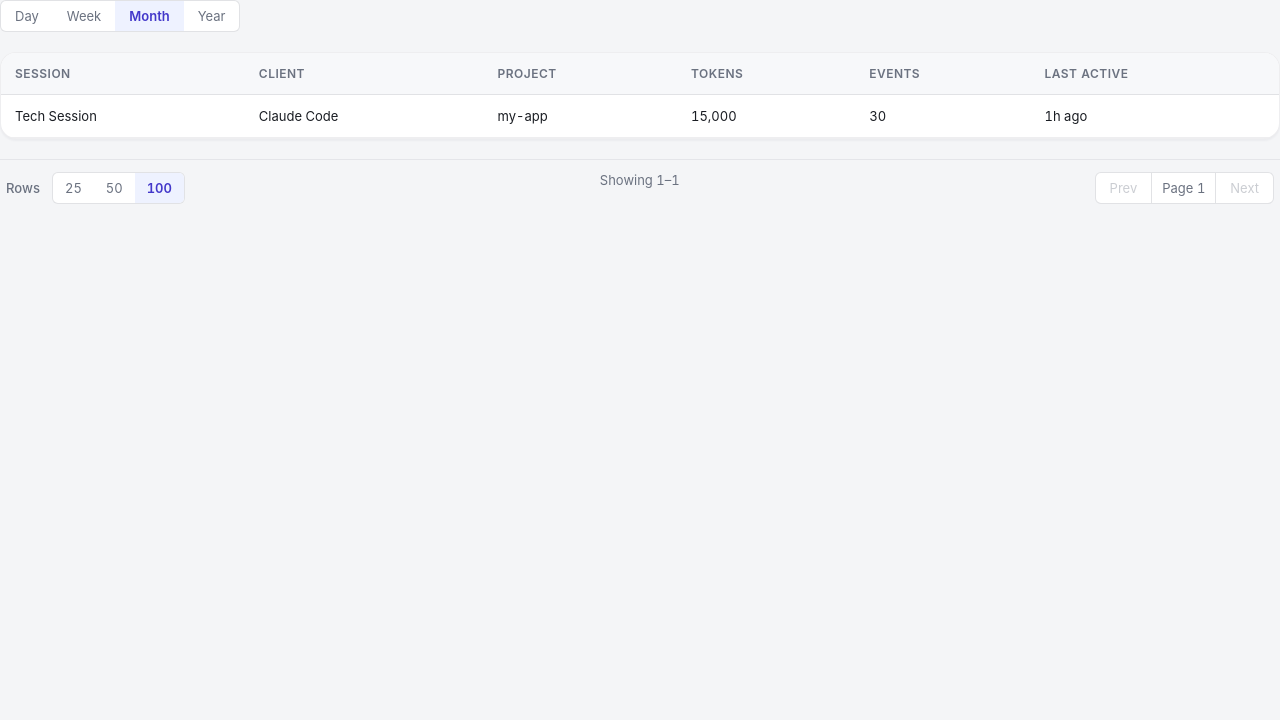
Test: SessionsPage › displays technical details in drawer
Click the text "Tech Session" at {"x": 123, "y": 116}, box top-left (1, 94), bottom-right (245, 138)
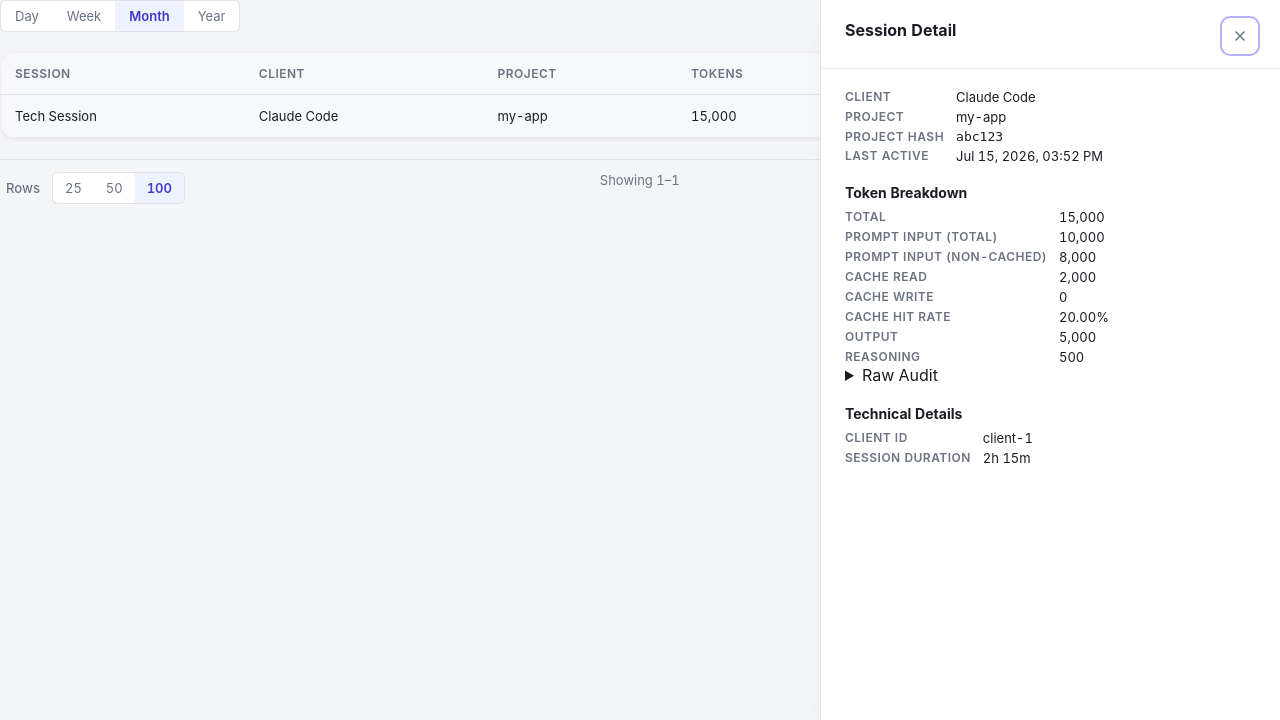
Result: the heading "Technical Details" is shown at top-left (845, 405), bottom-right (962, 422)
Result: the text "client-1" is shown at top-left (983, 430), bottom-right (1033, 446)
Result: the text "2h 15m" is shown at top-left (983, 450), bottom-right (1031, 466)
